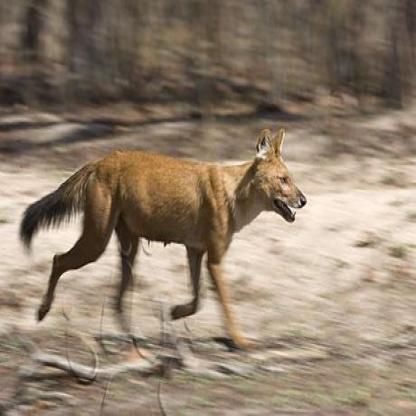dhole: (18, 127, 306, 346)
